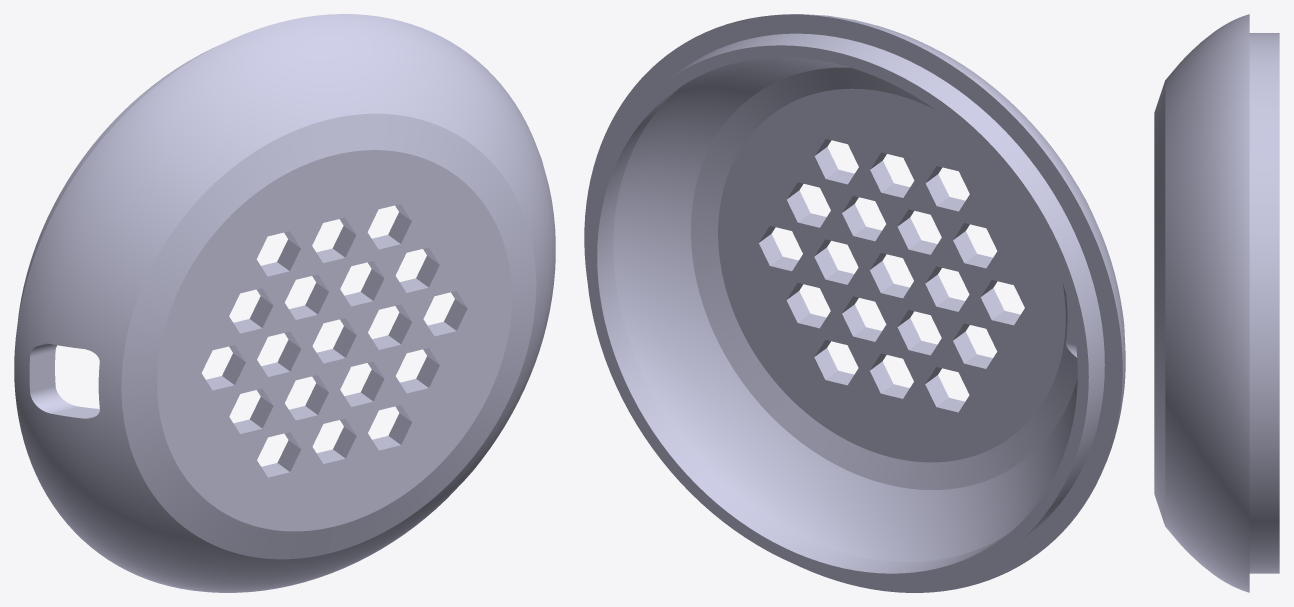
File: google-home-mini-v3-bot-Cut.gltf
The picture shows the model from 3 angles, left to right: view 1: azimuth 30°, elevation 25°; view 2: azimuth 150°, elevation 25°; view 3: azimuth 270°, elevation 25°; orthographic projection. The views are drawn at different scales.
Parts seen in each view (by area): view 1: Cut; view 2: Cut; view 3: Cut.
Boxes of the visible parts, bbox=[...] form: Cut: bbox=[14, 14, 555, 592]; Cut: bbox=[584, 14, 1125, 592]; Cut: bbox=[1154, 14, 1279, 592].
Bounding box in the file's own units: 0.0971 × 0.0971 × 0.021.
